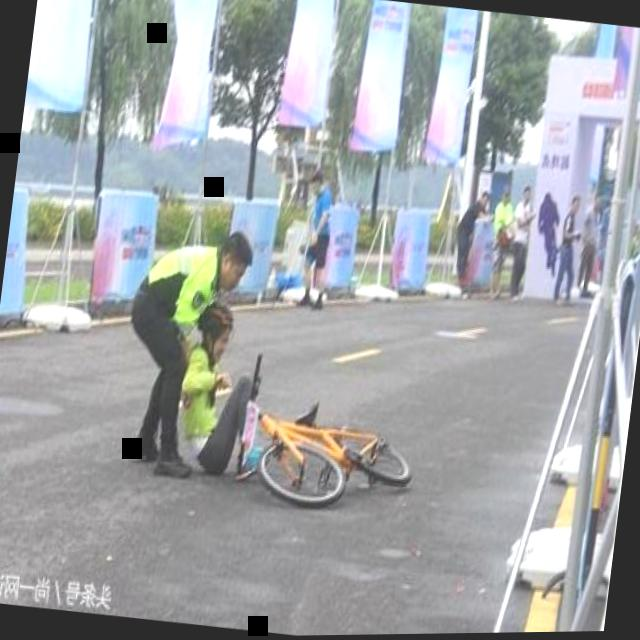Fall-Detected: (169, 289, 279, 480)
